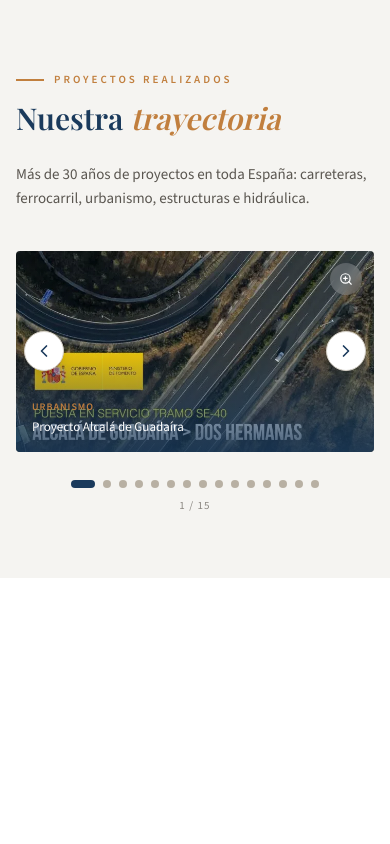
Gallery › opens lightbox on mobile photo click
The width and height of the screenshot is (390, 844).
Click the element showing "Urbanismo Proyecto Alcalá de Guadaíra" at (195, 351), box [16,250,374,452]
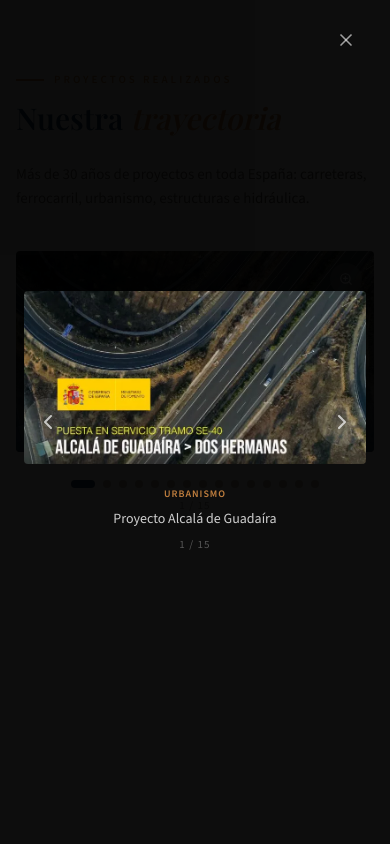
Expected: the button named "Cerrar lightbox" is shown, [326,20,366,60]
